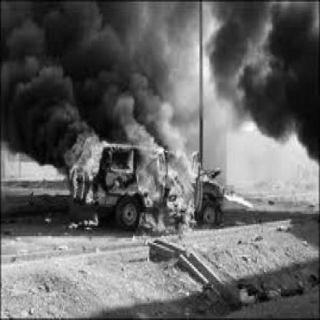Fire: (69, 132, 231, 228)
Smoke: (3, 1, 165, 153), (222, 10, 310, 124)
